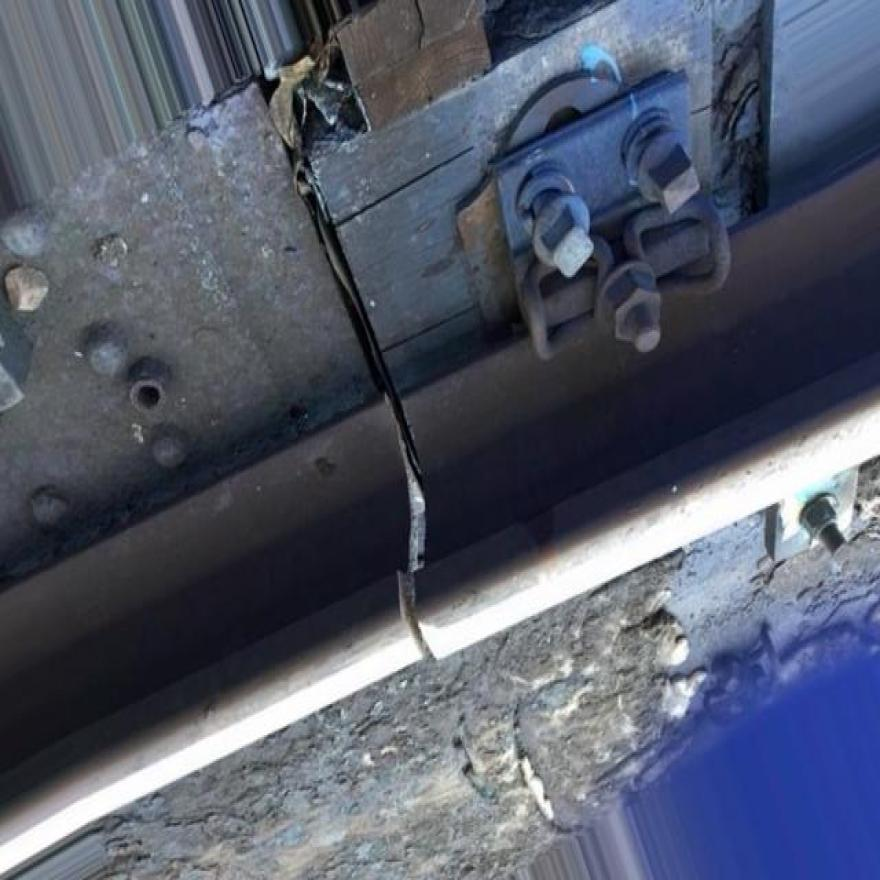railway-gap: (284, 390, 545, 738)
